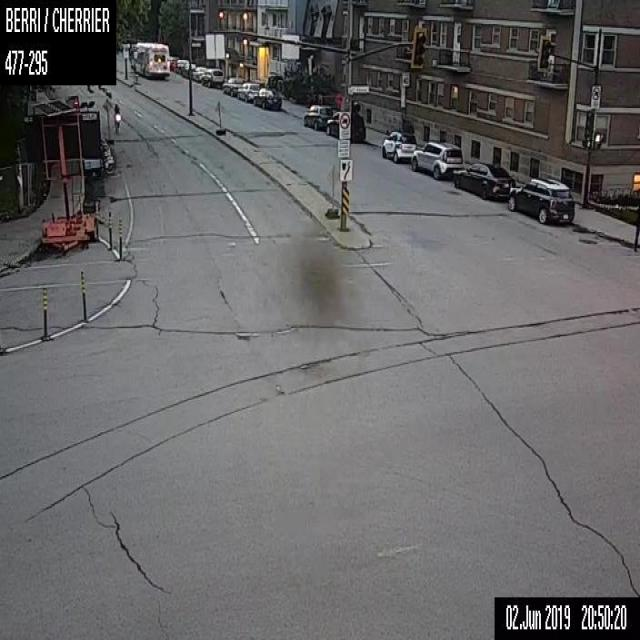bus: (130, 41, 169, 77)
construction: (24, 96, 102, 256), (322, 162, 339, 218), (212, 99, 225, 137), (79, 267, 87, 320), (103, 97, 112, 140), (41, 286, 46, 338), (117, 214, 122, 258), (108, 212, 112, 248)
cyclist: (113, 103, 121, 133)
vehicle: (507, 177, 574, 223), (452, 162, 514, 198), (410, 140, 462, 180), (326, 110, 366, 139), (382, 131, 416, 161), (302, 104, 333, 130), (252, 86, 282, 108), (201, 68, 223, 87), (237, 82, 259, 101), (222, 77, 244, 95), (192, 66, 206, 82), (181, 63, 195, 77), (175, 59, 188, 73)
